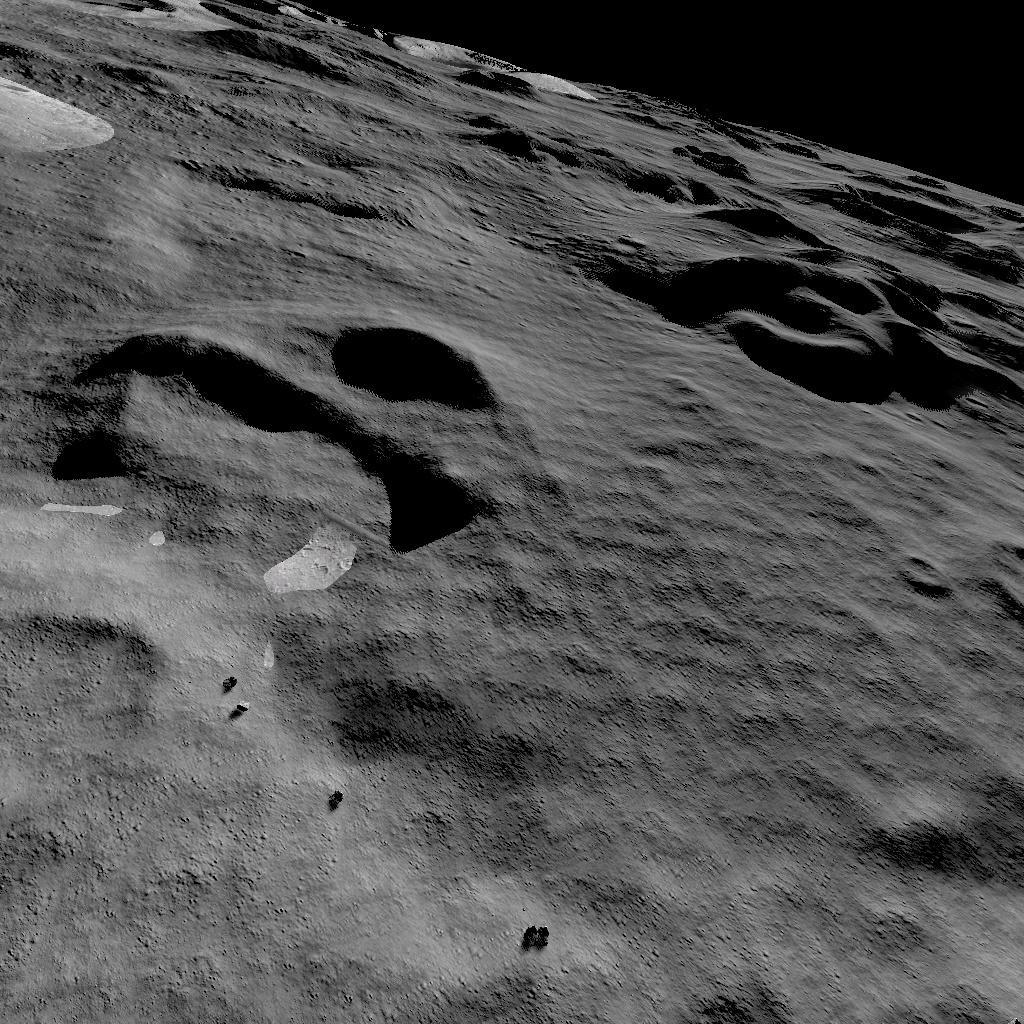Boulders: (0, 46, 135, 162)
Crater: (29, 296, 507, 554), (599, 138, 1024, 404), (0, 586, 181, 840), (889, 528, 957, 592)
Plan surface: (564, 416, 877, 1024), (0, 868, 505, 1024)
